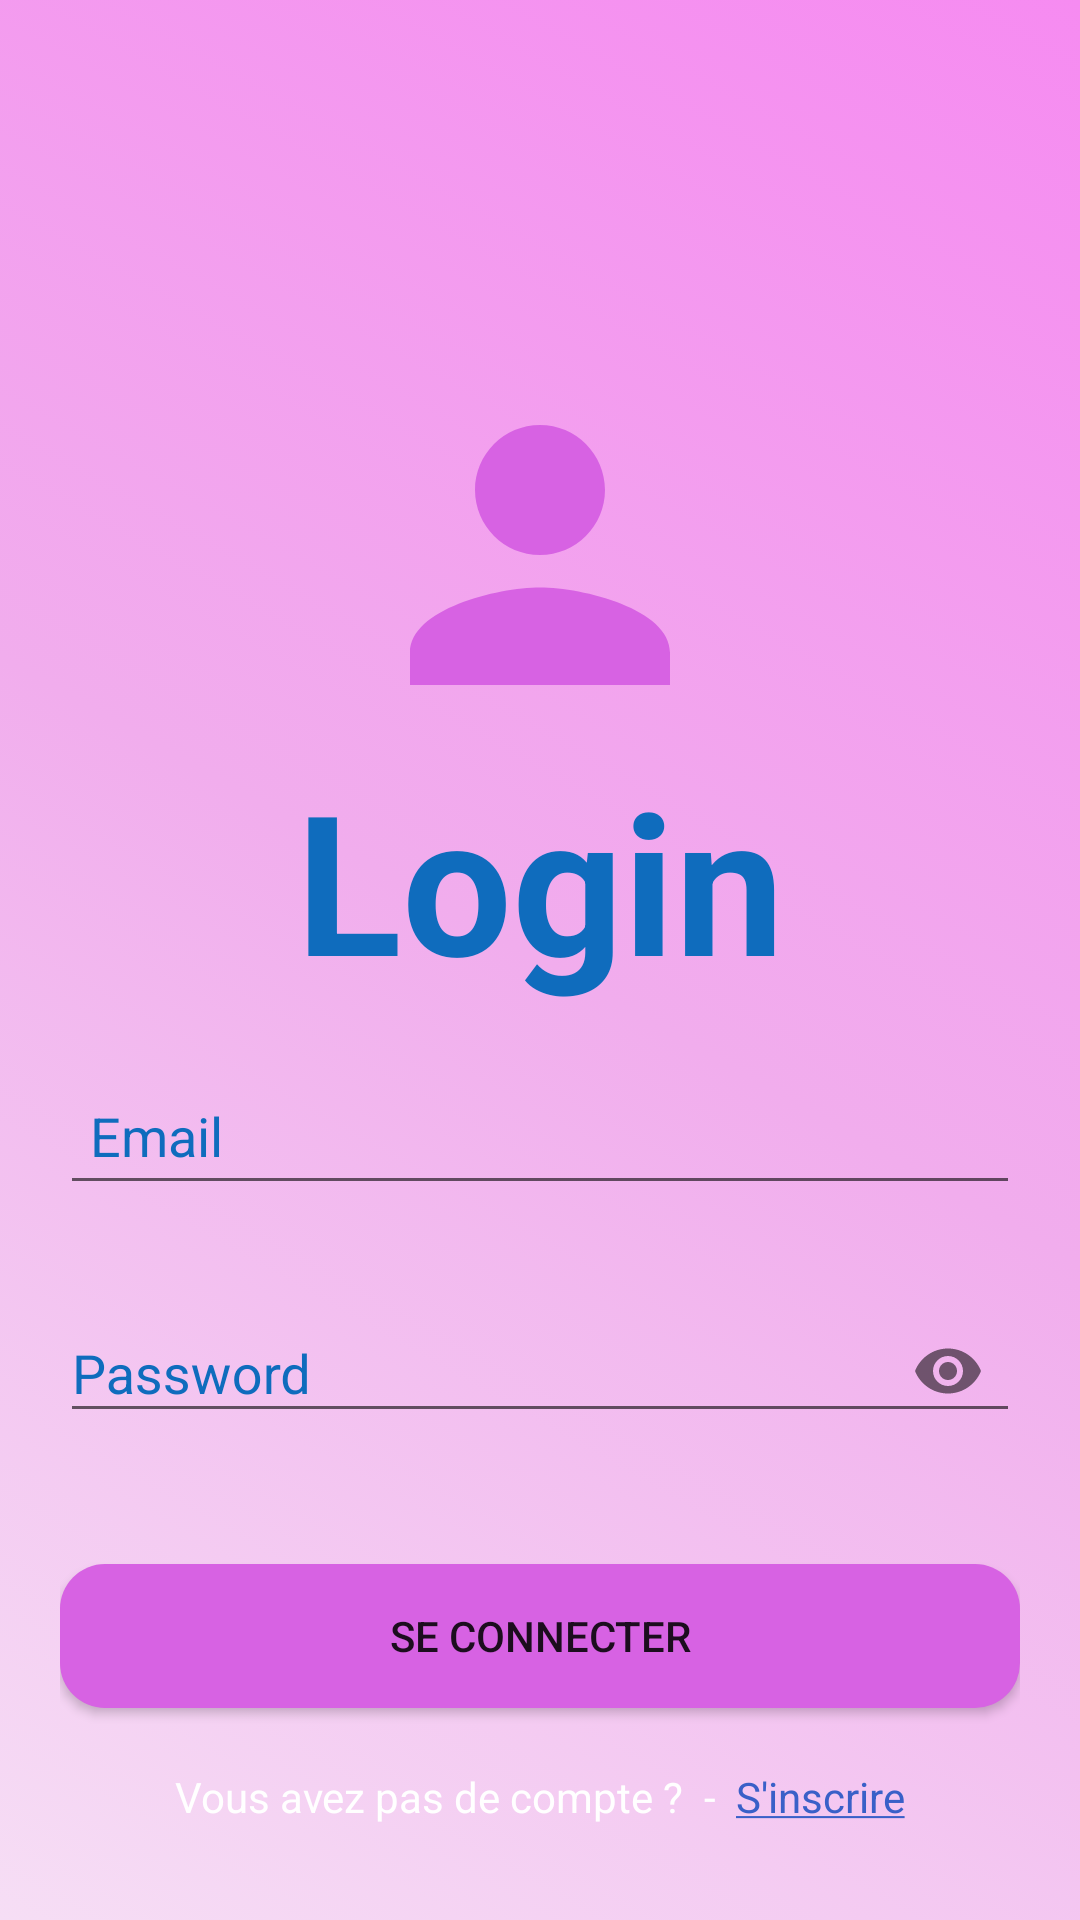

Icon bounding boxes for this 1080x1920 phone screenshot, format detection(x1, y1, x2, y2):
person mov: detection(410, 425, 670, 685)
